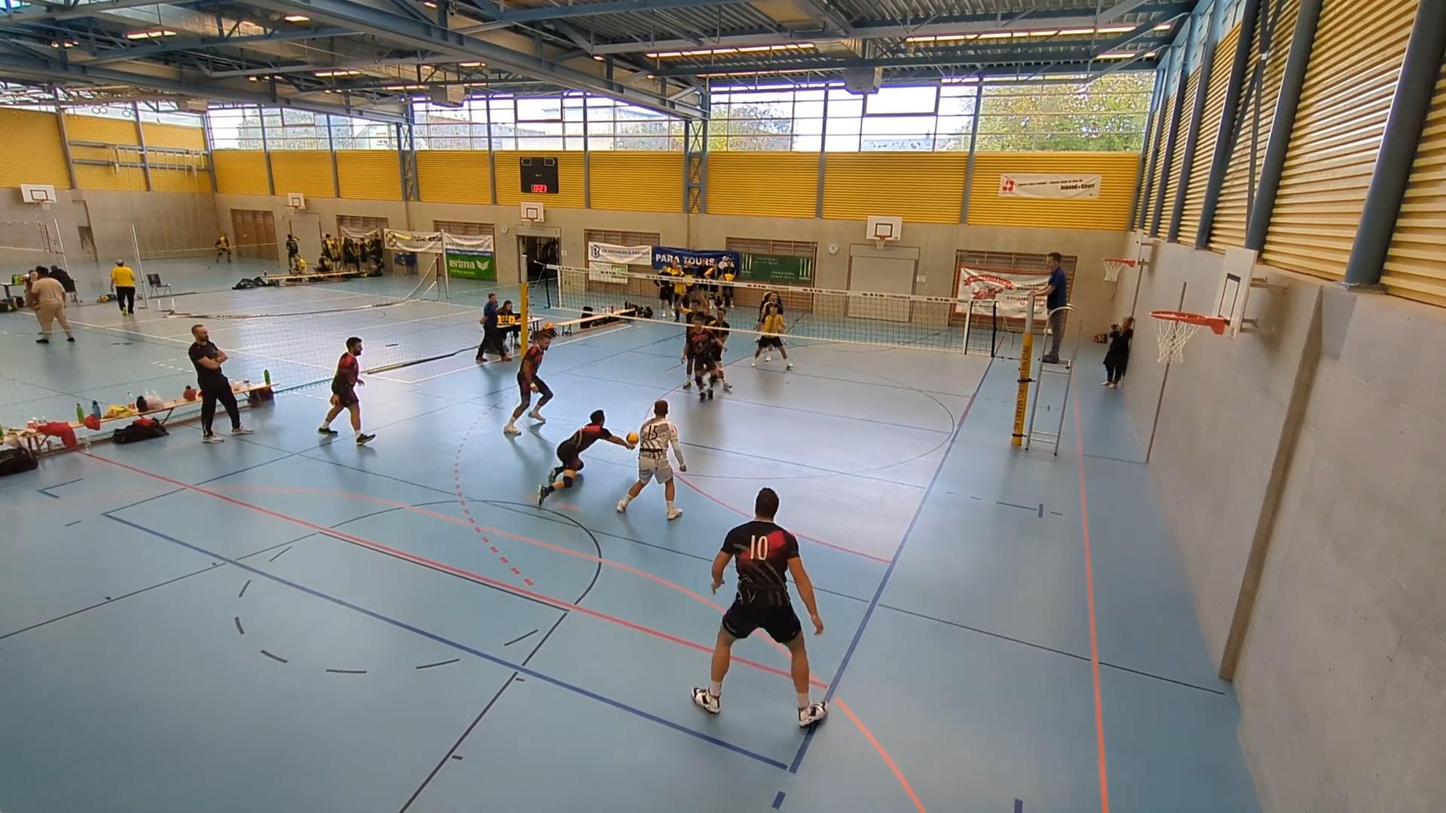ricezione: (539, 406, 643, 506)
